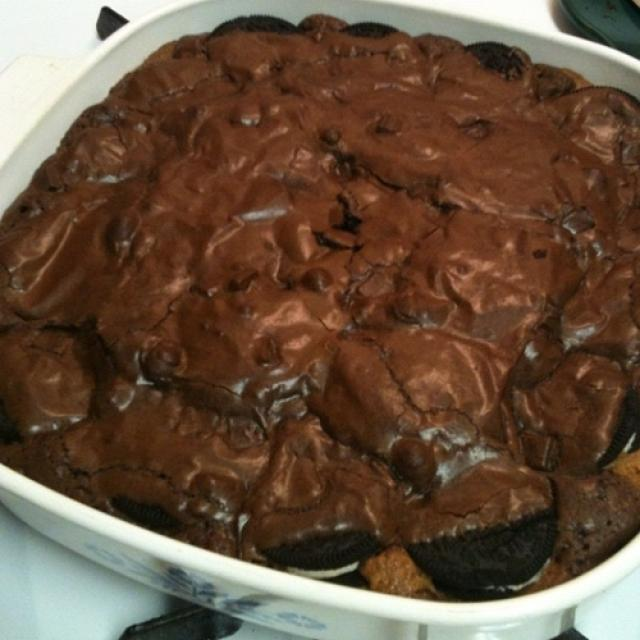蛋糕甜品: (11, 15, 621, 608)
